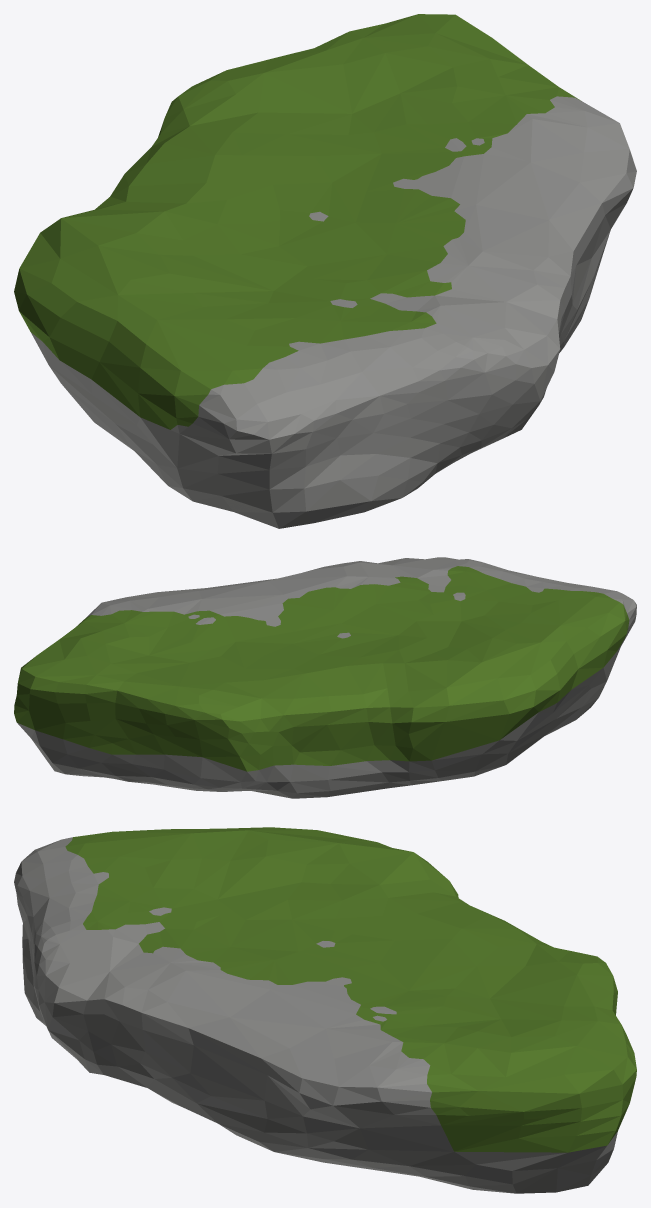
Rendered from Cavern_FloorGrass_Border_Edge-03.fbx.
3 views of the same model, one above another, from view 1: azimuth 30°, elevation 25°; view 2: azimuth 150°, elevation 25°; view 3: azimuth 270°, elevation 25° (orthographic). The views are drawn at different scales.
Visible parts, largest first — view 1: Cavern_FloorGrass_Border_Edge-03; view 2: Cavern_FloorGrass_Border_Edge-03; view 3: Cavern_FloorGrass_Border_Edge-03.
Boxes of the visible parts, <box> form: Cavern_FloorGrass_Border_Edge-03: <box>14,14,636,528</box>; Cavern_FloorGrass_Border_Edge-03: <box>14,557,636,798</box>; Cavern_FloorGrass_Border_Edge-03: <box>14,827,636,1193</box>.
Bounding box in the file's own units: 1867 × 508 × 1911.
Materials: 1 (1 with a texture image).
